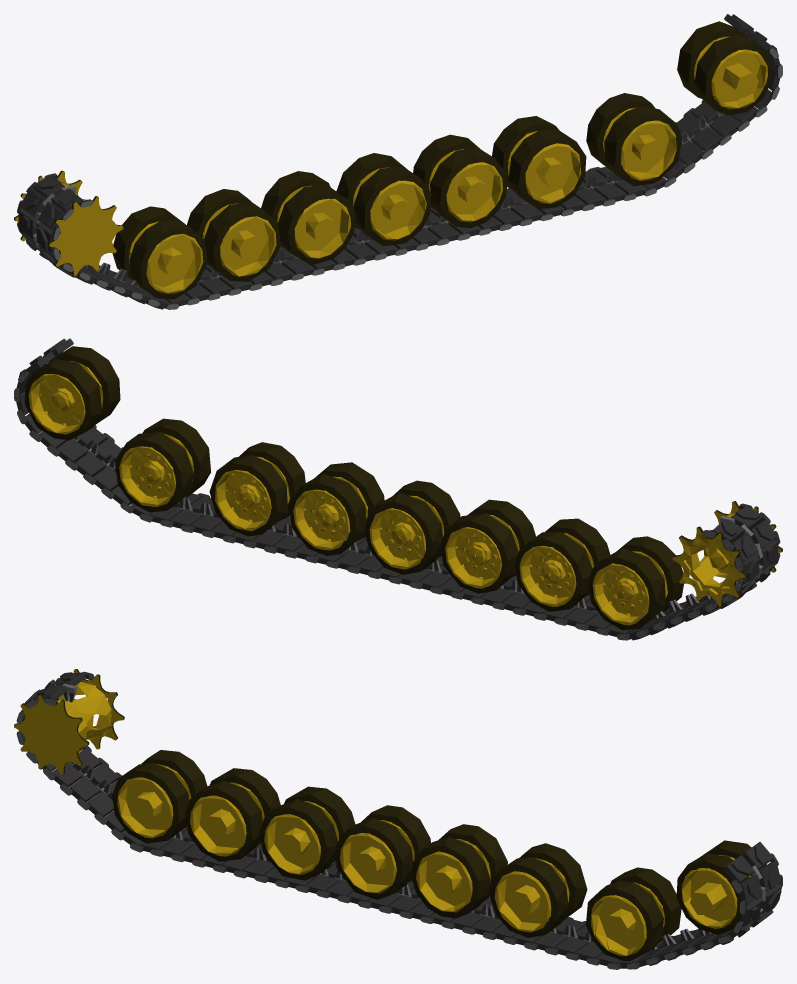
The model's file is wheels_left.obj.
3 views of the same model, one above another, from view 1: azimuth 30°, elevation 25°; view 2: azimuth 150°, elevation 25°; view 3: azimuth 330°, elevation 25° (orthographic).
Parts seen in each view (by area): view 1: rowheel_l0_rubber, Rectangle9_rubber, Rectangle0_rubber, rowheel_l1_rubber, rowheel_l2_rubber, rowheel_l3_rubber, rowheel_l6_axis1, rowheel_l4_rubber, rowheel_l5_rubber, rowheel_l0_axis, Rectangle9_axis, rowheel_l5_axis (+11 smaller); view 2: Rectangle9_rubber, rowheel_l0_rubber, Rectangle0_rubber, rowheel_l1_rubber, rowheel_l3_rubber, rowheel_l4_rubber, rowheel_l2_rubber, rowheel_l5_rubber, rowheel_l6_axis1, Rectangle0_axis, rowheel_l2_axis, rowheel_l0_axis (+11 smaller); view 3: rowheel_l6_axis1, rowheel_l1_rubber, rowheel_l0_rubber, rowheel_l2_rubber, rowheel_l4_rubber, rowheel_l3_rubber, rowheel_l5_rubber, Rectangle0_rubber, rowheel_l1_axis, rowheel_l0_axis, rowheel_l5_axis, rowheel_l4_axis (+11 smaller).
Boxes of the visible parts, x1,y1,x2,y2 form: rowheel_l0_rubber: (586,93,682,186); Rectangle9_rubber: (677,21,772,115); Rectangle0_rubber: (112,206,207,299); rowheel_l1_rubber: (492,116,586,209); rowheel_l2_rubber: (413,134,507,227); rowheel_l3_rubber: (336,153,431,246); rowheel_l6_axis1: (15,171,123,275); rowheel_l4_rubber: (261,171,355,265); rowheel_l5_rubber: (187,189,281,281); rowheel_l0_axis: (603,107,676,180); Rectangle9_axis: (694,36,767,109); rowheel_l5_axis: (202,203,276,276); Rectangle9_rubber: (24,346,120,440); rowheel_l0_rubber: (115,418,210,512); Rectangle0_rubber: (588,536,683,630); rowheel_l1_rubber: (209,442,305,536); rowheel_l3_rubber: (365,480,460,574); rowheel_l4_rubber: (440,499,535,593); rowheel_l2_rubber: (289,462,384,555); rowheel_l5_rubber: (515,518,610,611); rowheel_l6_axis1: (672,502,781,606); Rectangle0_axis: (592,551,667,625); rowheel_l2_axis: (293,476,367,550); rowheel_l0_axis: (119,433,193,506); rowheel_l6_axis1: (14,670,123,774); rowheel_l1_rubber: (490,843,587,937); rowheel_l0_rubber: (586,867,681,960); rowheel_l2_rubber: (411,824,507,918); rowheel_l4_rubber: (259,786,355,880); rowheel_l3_rubber: (336,805,430,899); rowheel_l5_rubber: (185,768,280,861); Rectangle0_rubber: (112,750,207,843); rowheel_l1_axis: (494,858,569,932); rowheel_l0_axis: (590,882,664,955); rowheel_l5_axis: (190,782,264,856); rowheel_l4_axis: (264,801,338,874).
Size of the model in its own units: 17.9 by 3.17 by 1.91.
